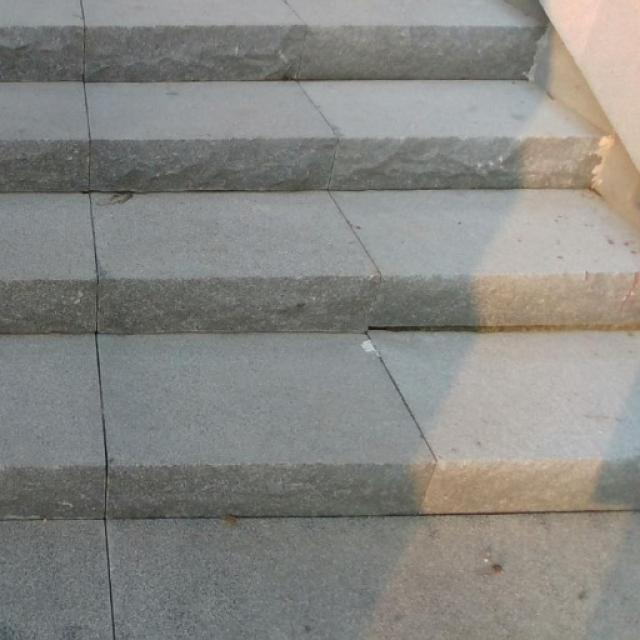Stairs: (0, 0, 639, 520)
